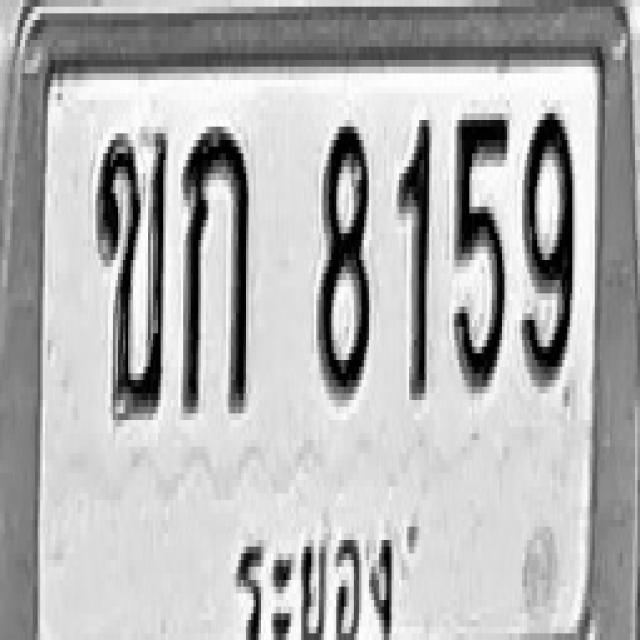1: (396, 113, 430, 400)
10GorGai: (180, 120, 248, 413)
11KhorKhai: (95, 127, 168, 420)
5: (453, 107, 508, 393)
8: (316, 120, 369, 400)
9: (521, 106, 573, 386)
Rayong: (226, 521, 402, 640)
